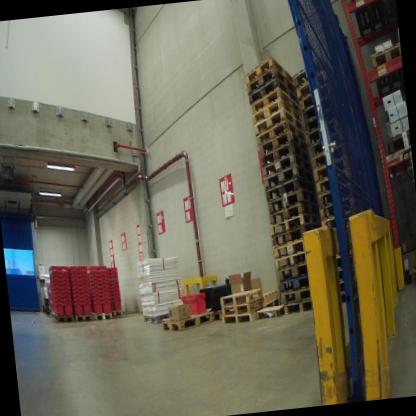pallet: (247, 78, 304, 121), (253, 103, 306, 143), (242, 51, 294, 90), (256, 125, 312, 161), (244, 66, 299, 102), (257, 146, 313, 181), (249, 96, 304, 129), (350, 0, 394, 41), (254, 118, 306, 152), (258, 163, 315, 194), (158, 305, 216, 334), (260, 173, 319, 201), (256, 141, 311, 171), (243, 73, 297, 103), (310, 142, 362, 173), (264, 186, 323, 212), (292, 54, 333, 91), (365, 37, 402, 76), (262, 200, 322, 224), (294, 67, 335, 102), (268, 210, 323, 236), (264, 225, 318, 251), (317, 194, 363, 224), (305, 120, 351, 149), (302, 95, 342, 126), (216, 282, 258, 309), (221, 292, 266, 316), (299, 85, 339, 112), (384, 126, 412, 164), (324, 247, 363, 274), (315, 170, 358, 194), (310, 156, 349, 181), (221, 303, 263, 325), (311, 131, 349, 155), (321, 183, 360, 205), (275, 260, 311, 283), (272, 237, 309, 258), (140, 305, 173, 328), (275, 277, 316, 295), (306, 110, 343, 129), (281, 297, 318, 315), (274, 253, 312, 270), (281, 287, 315, 304), (254, 281, 277, 304), (205, 304, 227, 325), (403, 249, 416, 283), (261, 293, 283, 312), (258, 303, 284, 319), (330, 266, 355, 281), (52, 310, 76, 324), (340, 279, 356, 294), (74, 313, 94, 323), (92, 311, 112, 321), (109, 308, 124, 318), (49, 311, 53, 318)
pallet_truck: (402, 145, 416, 279)
small_load_carrier: (177, 281, 209, 318), (50, 301, 63, 317), (72, 300, 83, 316), (82, 299, 93, 314), (91, 299, 102, 313), (64, 299, 73, 315), (112, 298, 123, 311), (102, 300, 111, 313), (110, 299, 115, 311)
